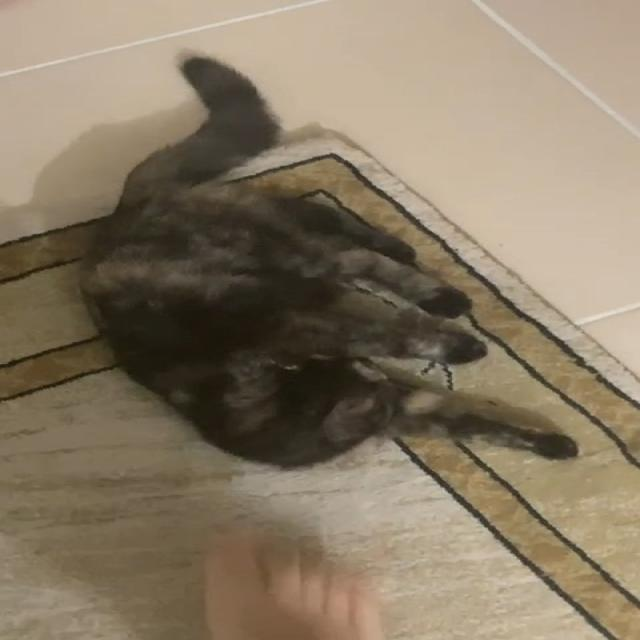authorized: (76, 48, 579, 471)
